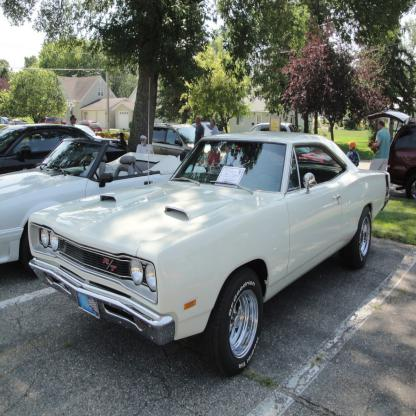Car: (0, 109, 416, 379)
